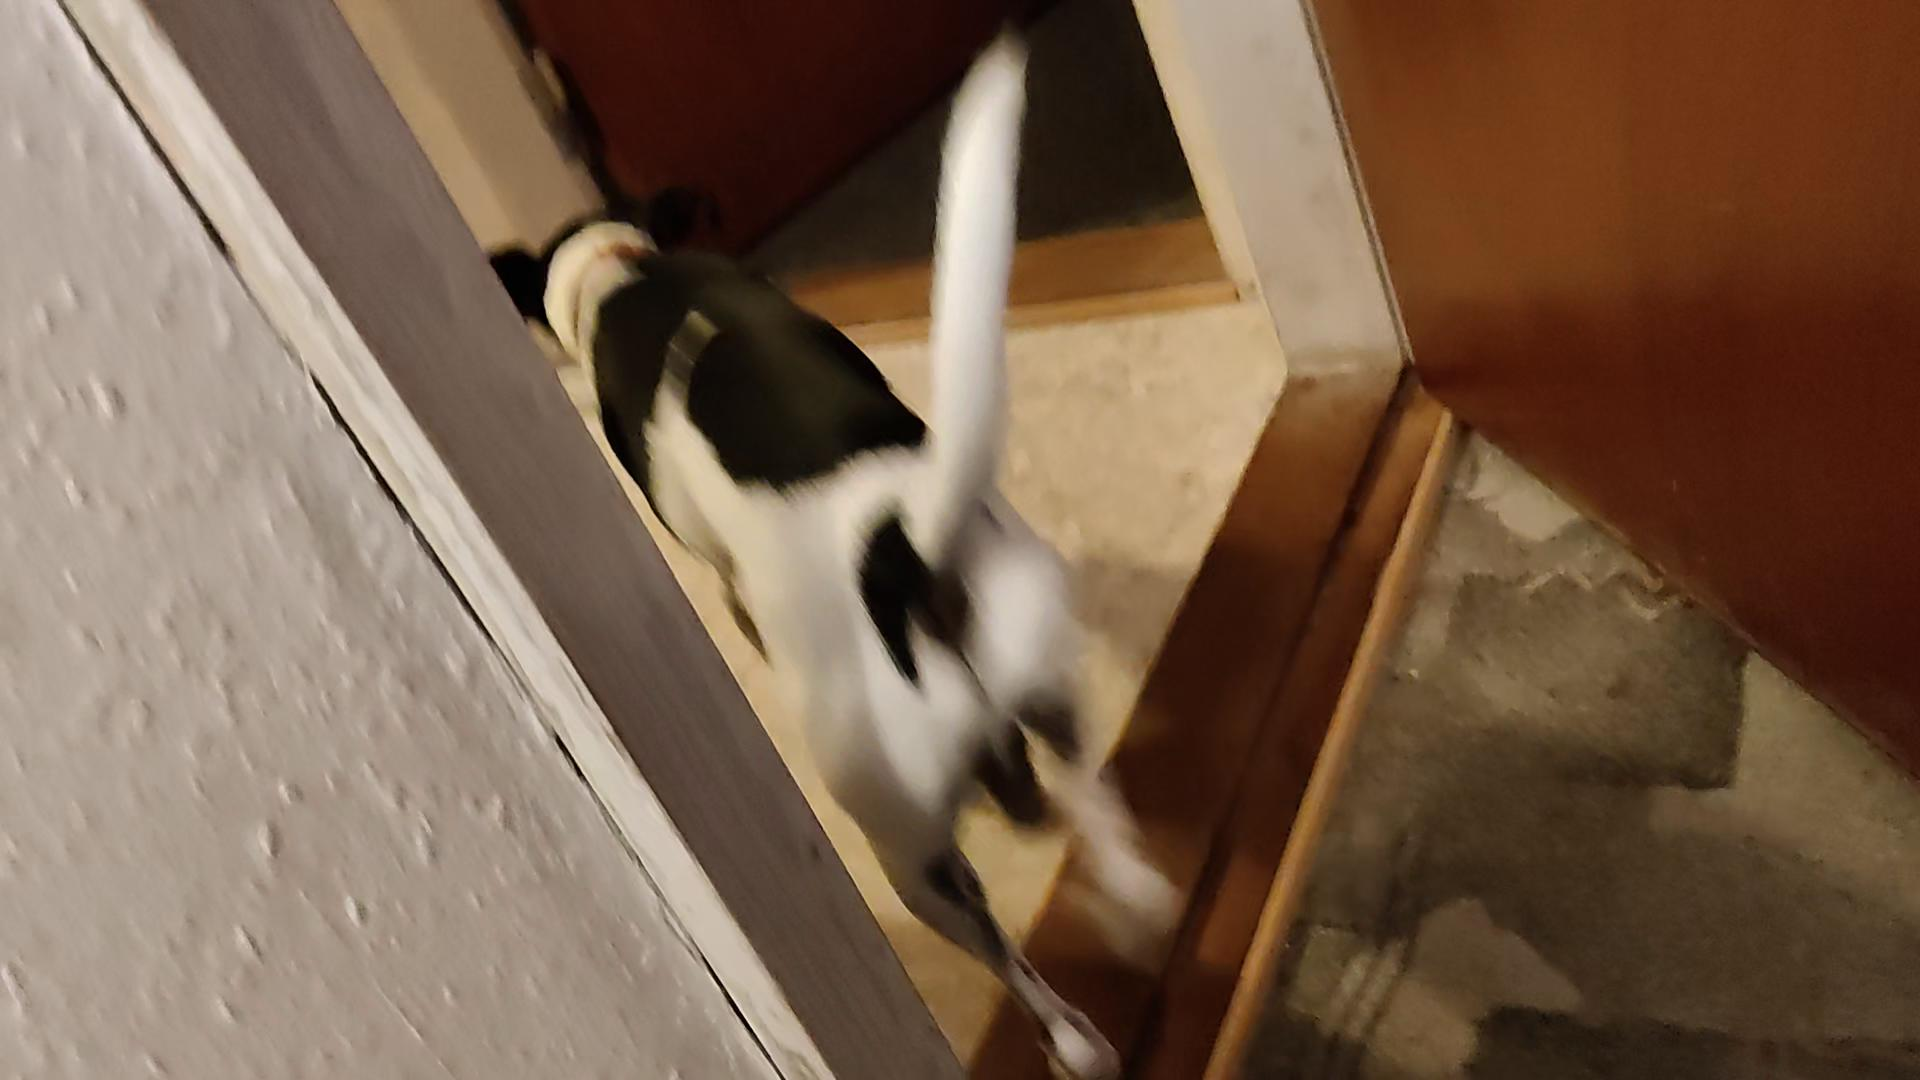Dog: (488, 22, 1203, 1079)
